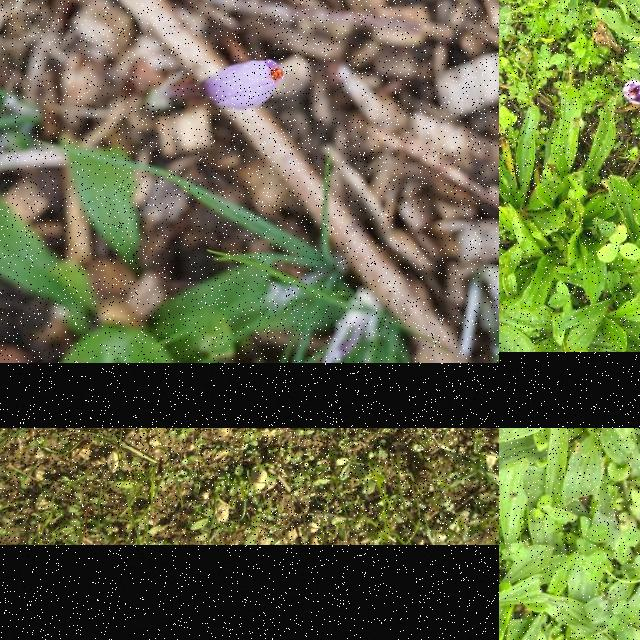flower: (203, 59, 283, 109), (623, 80, 640, 103)
